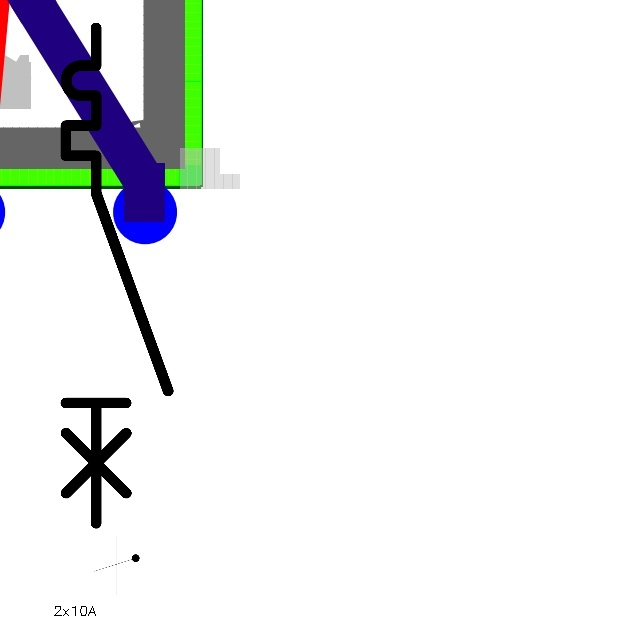interruptor_termomagnetico: (53, 15, 180, 536)
